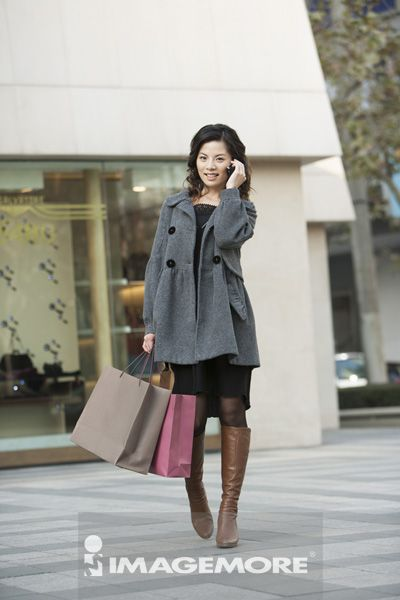talk: (196, 150, 246, 188)
